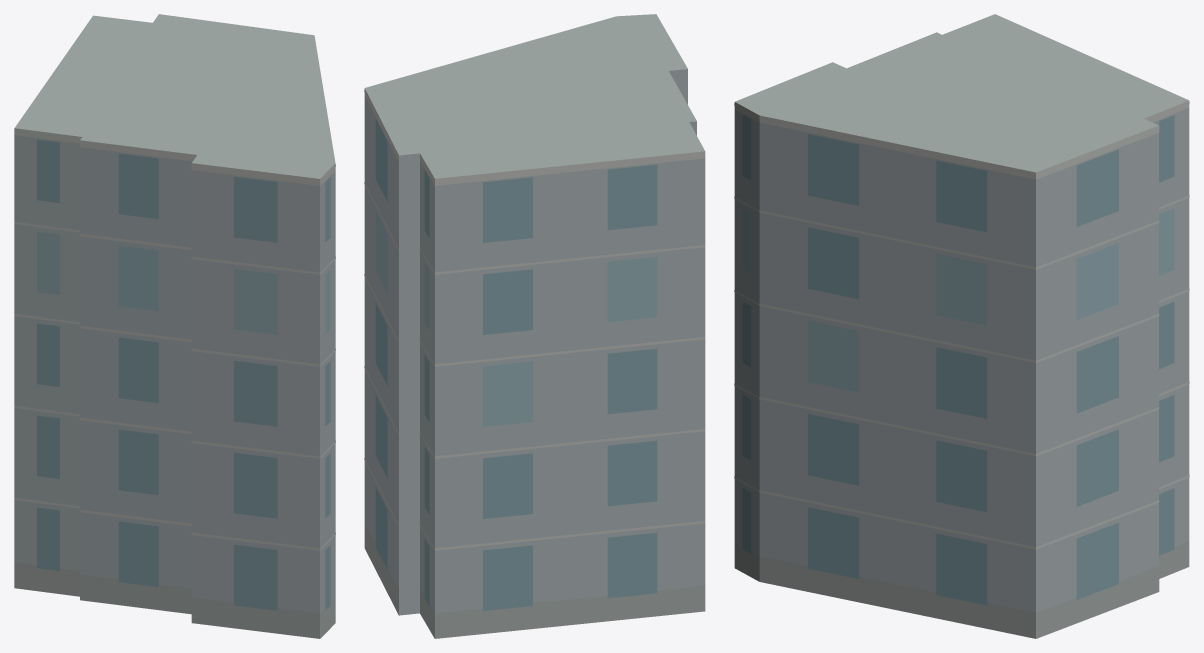
The model's file is survey-upis-32718857.glb.
3 views of the same model, side by side, from view 1: azimuth 30°, elevation 25°; view 2: azimuth 150°, elevation 25°; view 3: azimuth 270°, elevation 25° (orthographic).
Visible parts, largest first — view 1: survey-upis-32718857.tmp; view 2: survey-upis-32718857.tmp; view 3: survey-upis-32718857.tmp.
Part boxes in pixels (left/top/right/bottom): survey-upis-32718857.tmp: left=14, top=14, right=335, bottom=638; survey-upis-32718857.tmp: left=364, top=14, right=705, bottom=638; survey-upis-32718857.tmp: left=734, top=14, right=1189, bottom=638.
Bounding box in the file's own units: 11.68 × 16 × 14.16.
